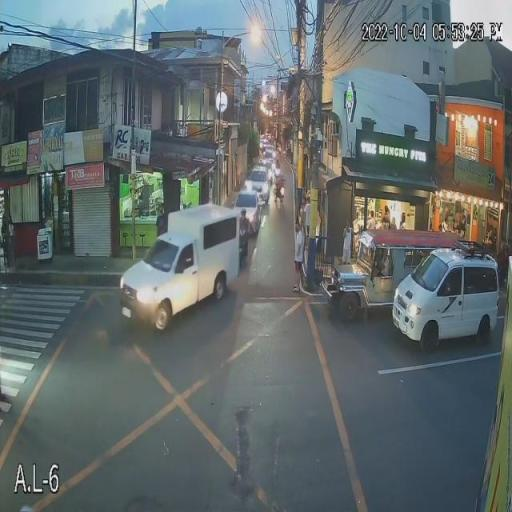motorcycle: (274, 185, 285, 202)
rider: (276, 173, 285, 190)
